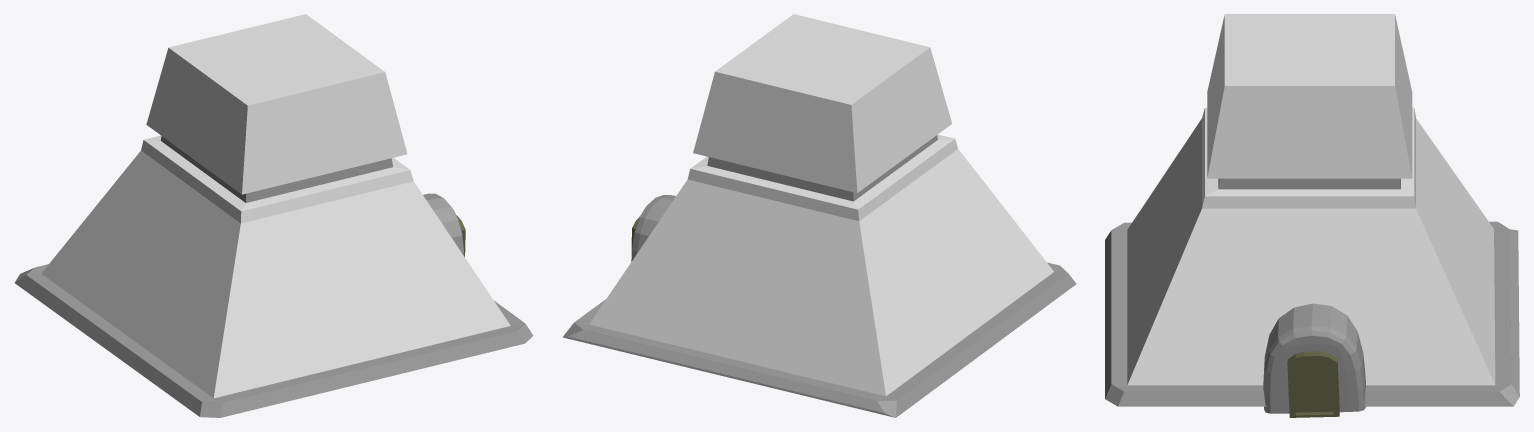
The model's file is aparmentbuildings_small.fbx.
3 renders of one model, left to right at view 1: azimuth 30°, elevation 25°; view 2: azimuth 150°, elevation 25°; view 3: azimuth 270°, elevation 25°, orthographic. The views are drawn at different scales.
Parts seen in each view (by area): view 1: Cube.006; view 2: Cube.006; view 3: Cube.006.
Part boxes in pixels (x1,y1,x2,y2): Cube.006: (14,14,533,417); Cube.006: (563,14,1076,417); Cube.006: (1105,14,1519,417).
Size of the model in its own units: 3923 by 2876 by 4068.
